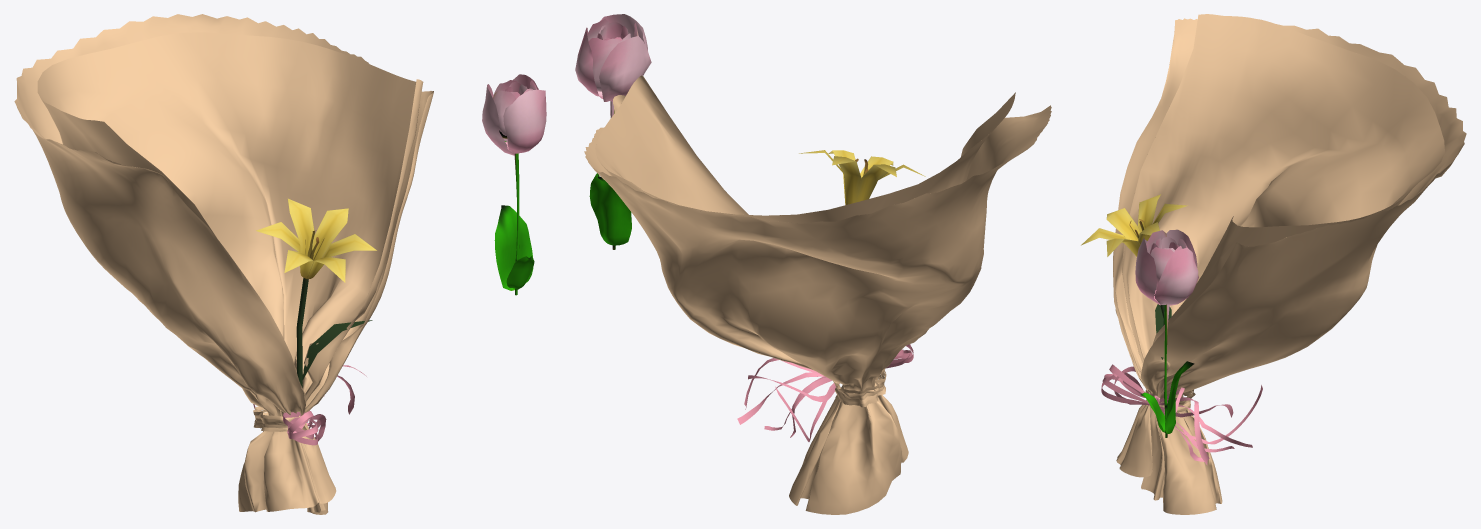
The picture shows the model from 3 angles, left to right: view 1: azimuth 30°, elevation 25°; view 2: azimuth 150°, elevation 25°; view 3: azimuth 270°, elevation 25°; orthographic projection. The views are drawn at different scales.
Visible parts, largest first — view 1: inner, outer, Geometry, SM_Lilly1, ribbon, parcel_knot; view 2: outer, inner, Geometry, ribbon, SM_Lilly1, parcel_knot; view 3: inner, outer, Geometry, ribbon, SM_Lilly1.
Part boxes in pixels (x1=…): inner: x1=37, y1=32, x2=423, y2=416; outer: x1=14, y1=14, x2=433, y2=514; Geometry: x1=482, y1=74, x2=546, y2=295; SM_Lilly1: x1=256, y1=198, x2=376, y2=387; ribbon: x1=253, y1=365, x2=366, y2=445; parcel_knot: x1=253, y1=406, x2=300, y2=431; outer: x1=584, y1=95, x2=1051, y2=514; inner: x1=595, y1=75, x2=1015, y2=223; Geometry: x1=575, y1=14, x2=651, y2=249; ribbon: x1=737, y1=344, x2=913, y2=441; SM_Lilly1: x1=799, y1=150, x2=925, y2=205; parcel_knot: x1=833, y1=368, x2=886, y2=407; inner: x1=1122, y1=14, x2=1444, y2=365; outer: x1=1113, y1=18, x2=1466, y2=514; Geometry: x1=1135, y1=229, x2=1198, y2=437; ribbon: x1=1101, y1=364, x2=1262, y2=465; SM_Lilly1: x1=1081, y1=194, x2=1187, y2=359.
Bounding box in the file's own units: 2.13 × 1.9 × 1.64.
7 materials, 2 textured.
